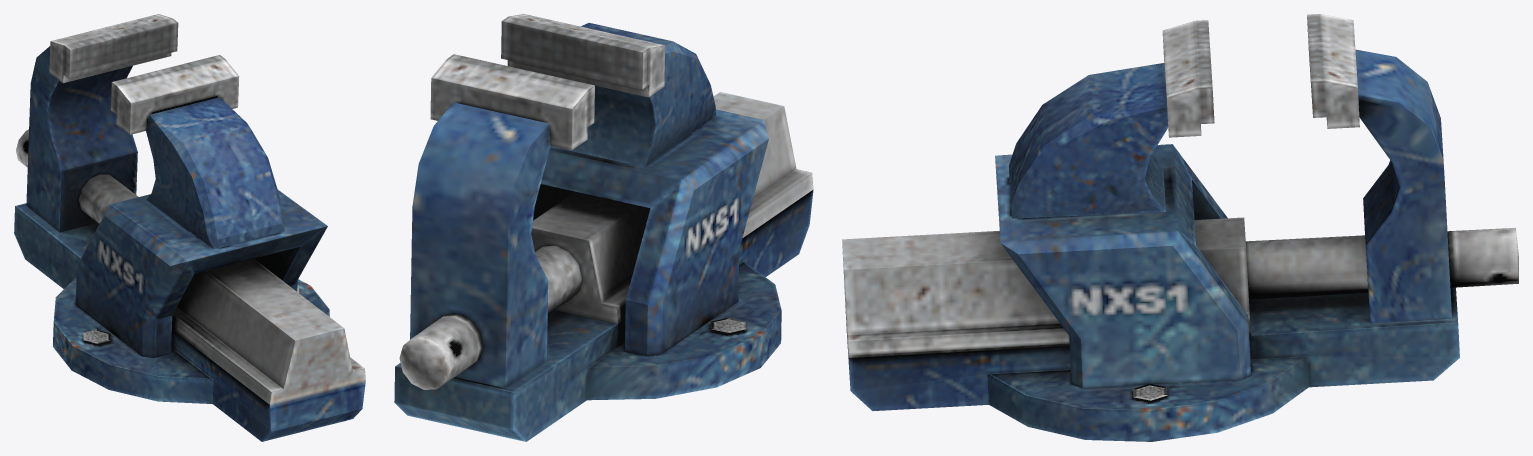
The model's file is M_Home_Garden_Bench_vice.fbx.
The picture shows the model from 3 angles, left to right: view 1: azimuth 30°, elevation 25°; view 2: azimuth 150°, elevation 25°; view 3: azimuth 270°, elevation 25°; orthographic projection. The views are drawn at different scales.
Parts seen in each view (by area): view 1: M_Home_Garden_Bench_vice; view 2: M_Home_Garden_Bench_vice; view 3: M_Home_Garden_Bench_vice.
Part boxes in pixels (x1,y1,x2,y2): M_Home_Garden_Bench_vice: (14, 14, 365, 441); M_Home_Garden_Bench_vice: (394, 14, 813, 441); M_Home_Garden_Bench_vice: (842, 14, 1518, 441).
Bounding box in the file's own units: 27.33 × 28.84 × 53.32.
